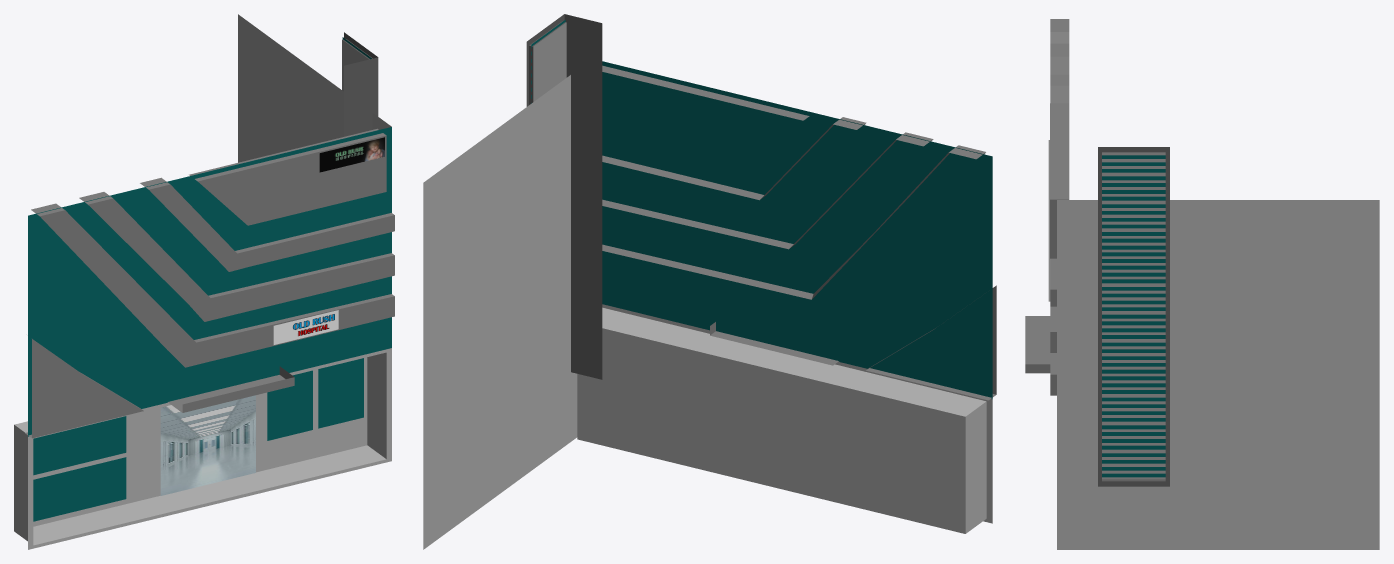
Rendered from old hospital fbx.fbx.
3 views of the same model, side by side, from view 1: azimuth 30°, elevation 25°; view 2: azimuth 150°, elevation 25°; view 3: azimuth 270°, elevation 25° (orthographic). The views are drawn at different scales.
Visible parts, largest first — view 1: pCube1, polySurface6, pPlane20, pPlane21, pPlane4, pCube8, pPlane6, pPlane7, pPlane2, pPlane1; view 2: pCube1, pCube8, polySurface6; view 3: pCube1, pCube8, pPlane19, polySurface6.
Part boxes in pixels (<box>): pCube1: <box>14,14,391,549</box>; polySurface6: <box>25,128,394,438</box>; pPlane20: <box>160,395,255,495</box>; pPlane21: <box>33,457,126,521</box>; pPlane4: <box>33,416,126,475</box>; pCube8: <box>342,32,378,136</box>; pPlane6: <box>318,358,363,428</box>; pPlane7: <box>267,370,312,440</box>; pPlane2: <box>319,137,384,172</box>; pPlane1: <box>273,310,338,344</box>; pCube1: <box>423,61,992,549</box>; pCube8: <box>526,14,602,379</box>; polySurface6: <box>602,65,996,400</box>; pCube1: <box>1057,200,1379,549</box>; pCube8: <box>1098,147,1169,486</box>; pPlane19: <box>1102,155,1165,477</box>; polySurface6: <box>1025,19,1069,395</box>.
Bounding box in the file's own units: 25.03 × 25.08 × 19.83.
